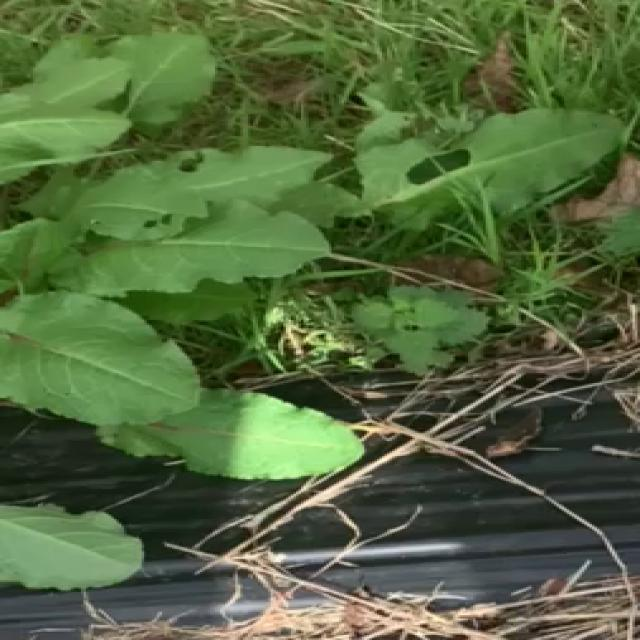organic waste: (0, 38, 382, 600), (316, 83, 640, 273)
